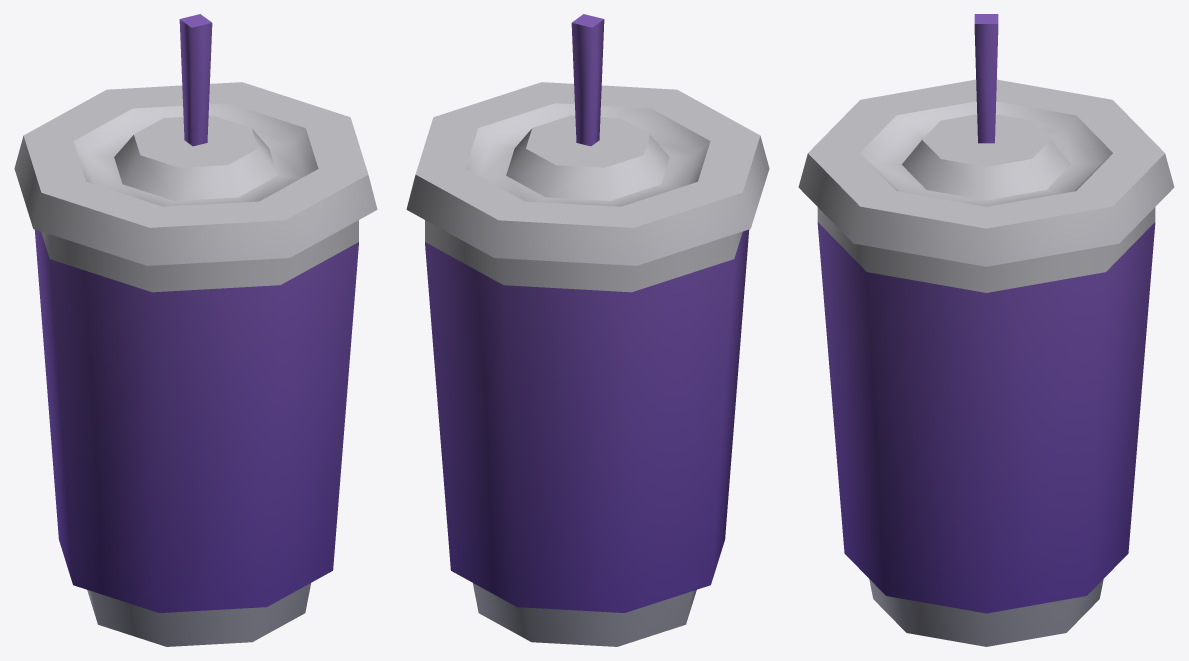
File: soda.glb
3 views of the same model, side by side, from view 1: azimuth 30°, elevation 25°; view 2: azimuth 150°, elevation 25°; view 3: azimuth 270°, elevation 25° (orthographic).
Parts seen in each view (by area): view 1: soda; view 2: soda; view 3: soda.
Boxes of the visible parts, bbox=[...] form: soda: bbox=[14, 14, 377, 646]; soda: bbox=[406, 14, 769, 646]; soda: bbox=[798, 14, 1174, 646].
Bounding box in the file's own units: 0.2541 × 0.4324 × 0.2541.
